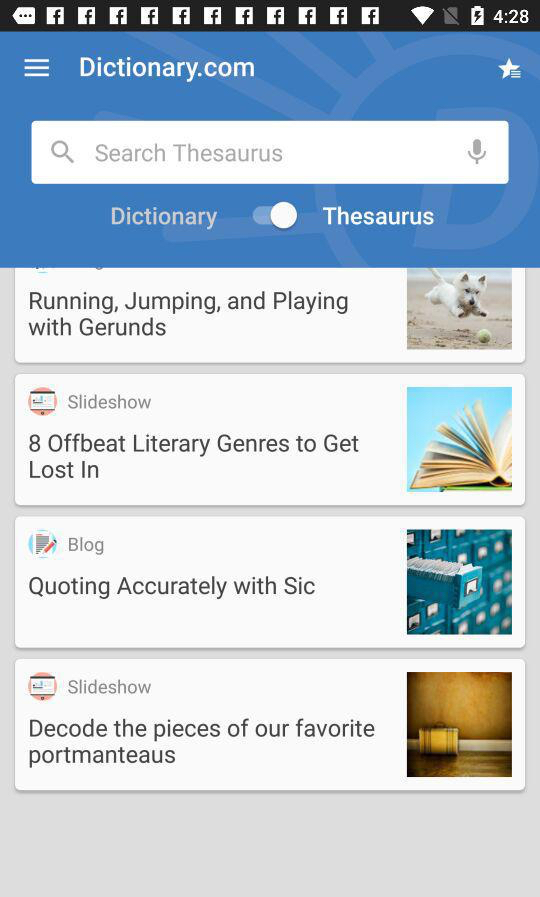Card: (15, 516, 525, 649), (15, 374, 526, 506), (15, 659, 526, 791)
EditText: (31, 120, 509, 185)
Icon: (497, 58, 523, 82), (51, 140, 75, 164), (24, 59, 51, 79), (468, 140, 486, 165)
Image: (407, 672, 512, 777), (407, 530, 512, 635), (407, 388, 512, 493), (407, 269, 512, 351), (29, 529, 59, 559), (29, 387, 59, 417), (29, 672, 58, 702)
Switch: (252, 202, 298, 230)
Text: (30, 718, 375, 769), (30, 433, 360, 479), (29, 291, 349, 337), (29, 576, 316, 600), (80, 57, 255, 84), (96, 143, 283, 163), (112, 207, 218, 232), (323, 206, 435, 227), (68, 394, 152, 410), (69, 679, 152, 695), (69, 537, 105, 556)
UpperTaskBar: (1, 1, 540, 33)
